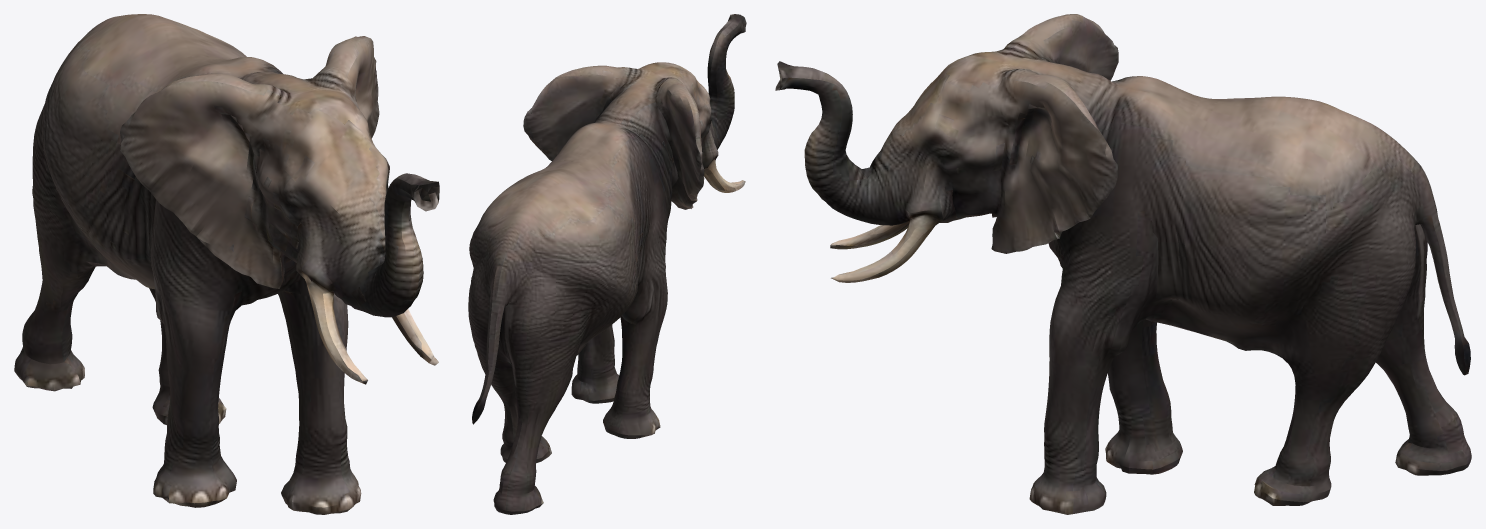
The picture shows the model from 3 angles, left to right: view 1: azimuth 30°, elevation 25°; view 2: azimuth 150°, elevation 25°; view 3: azimuth 270°, elevation 25°; orthographic projection. The views are drawn at different scales.
Visible parts, largest first — view 1: output; view 2: output; view 3: output.
Boxes of the visible parts, bbox=[...] form: output: bbox=[14, 14, 439, 514]; output: bbox=[468, 14, 746, 514]; output: bbox=[775, 14, 1471, 514].
Size of the model in its own units: 0.7657 by 1.3 by 1.9.
1 material, 1 textured.
